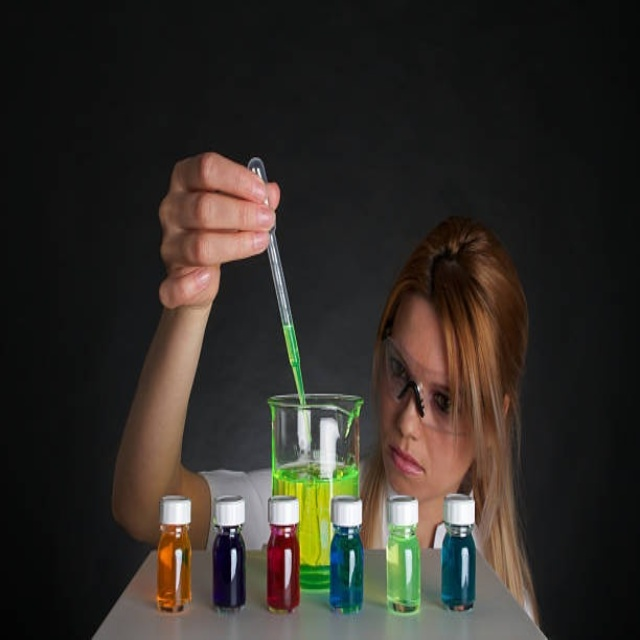Gafas: (383, 333, 475, 433)
Sin_guantes: (156, 151, 278, 309)
Sin_mascara: (384, 435, 436, 495)
